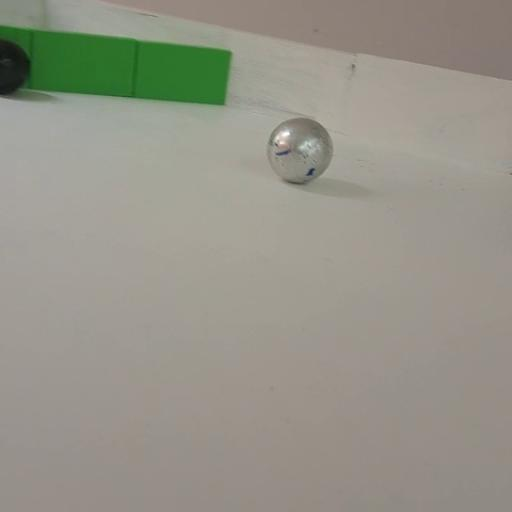alive: (265, 116, 334, 184)
dead: (0, 38, 31, 94)
